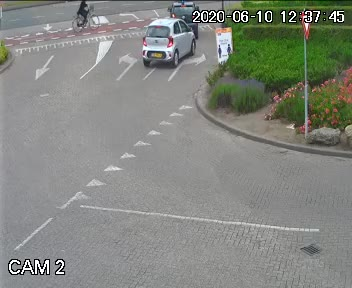car: (137, 20, 192, 70), (170, 1, 199, 39)
